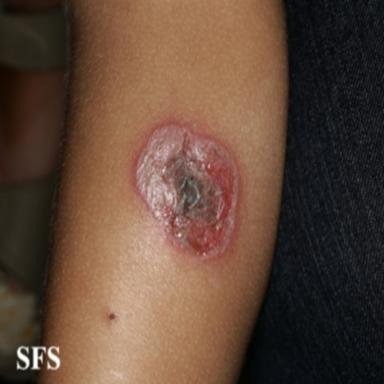Impetigo: (133, 121, 242, 260)
